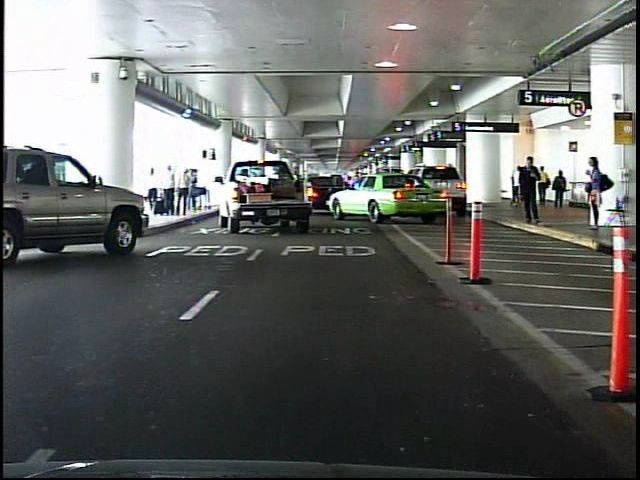person: (584, 153, 610, 234), (515, 151, 542, 227), (550, 170, 569, 210), (537, 166, 549, 207)
